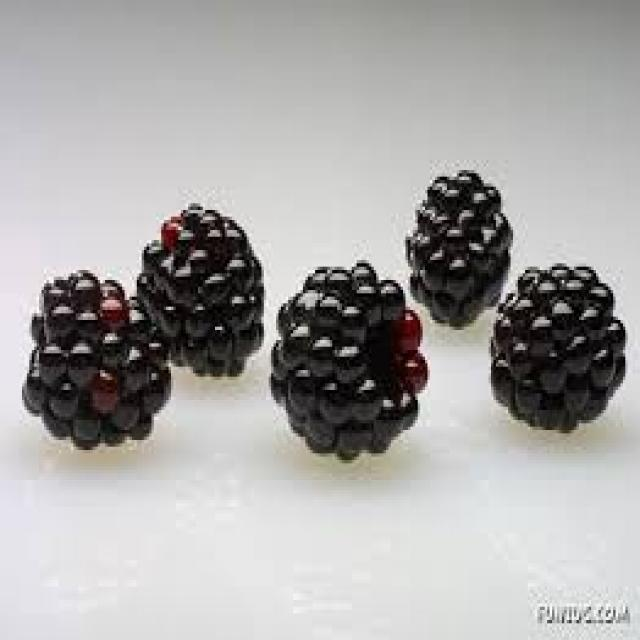organic waste: (266, 260, 428, 460), (20, 263, 171, 447), (134, 200, 262, 377), (488, 263, 623, 430), (403, 166, 511, 326)
